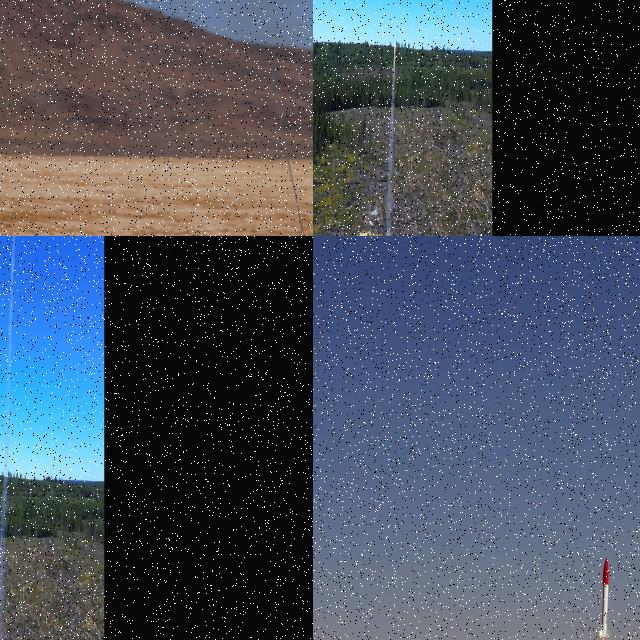Rocket: (597, 557, 612, 638), (395, 38, 396, 44)
